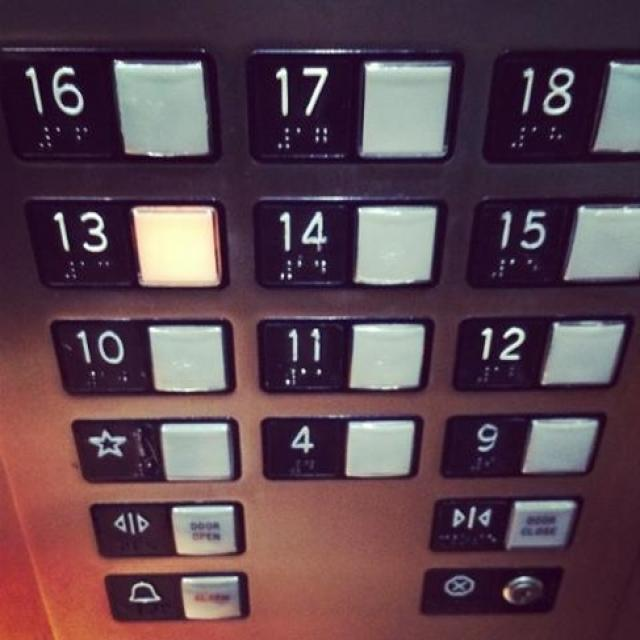10: (45, 312, 239, 400)
11: (250, 311, 436, 396)
12: (446, 311, 636, 393)
13: (18, 189, 232, 292)
14: (246, 191, 448, 292)
15: (457, 190, 639, 290)
16: (0, 40, 222, 164)
17: (239, 40, 464, 167)
18: (476, 40, 638, 167)
4: (254, 411, 426, 481)
9: (433, 408, 610, 481)
alarm: (99, 567, 251, 625)
close: (422, 493, 582, 555)
open: (85, 496, 247, 560)
s: (64, 412, 244, 487)
stop: (415, 563, 565, 617)
